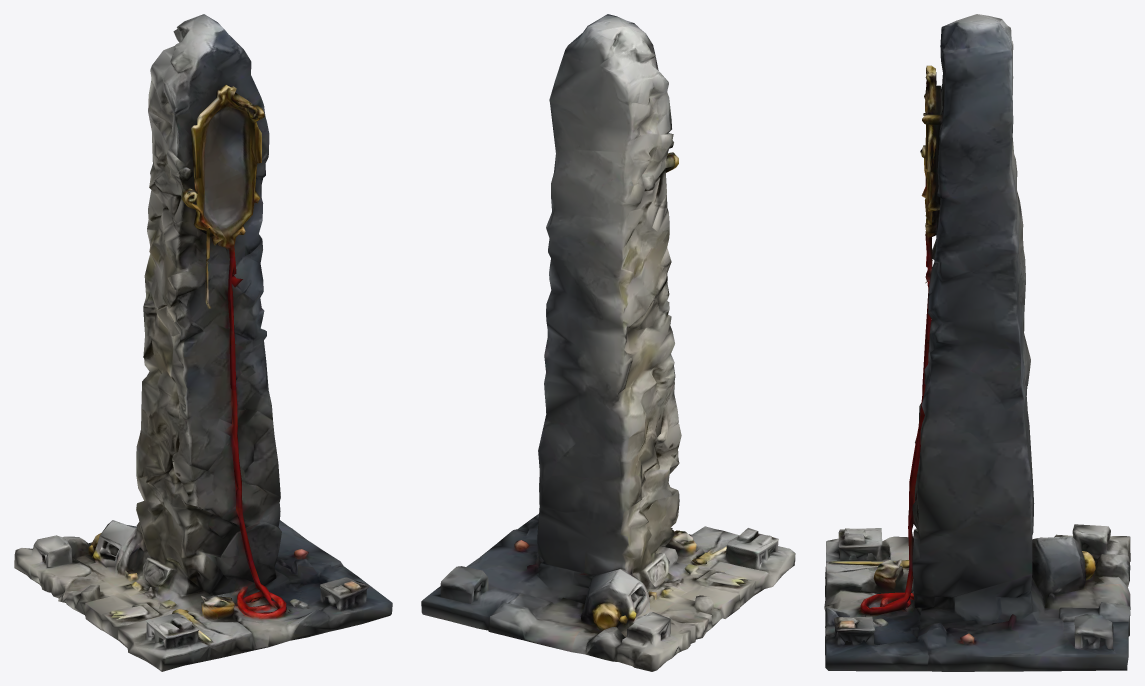
Rendered from anc_stone.glb.
The picture shows the model from 3 angles, left to right: view 1: azimuth 30°, elevation 25°; view 2: azimuth 150°, elevation 25°; view 3: azimuth 270°, elevation 25°; orthographic projection. The views are drawn at different scales.
Visible parts, largest first — view 1: tripo_node_e579e084-bd19-457f-bb8a-d61fdb056948; view 2: tripo_node_e579e084-bd19-457f-bb8a-d61fdb056948; view 3: tripo_node_e579e084-bd19-457f-bb8a-d61fdb056948.
Part boxes in pixels (x1,y1,x2,y2): tripo_node_e579e084-bd19-457f-bb8a-d61fdb056948: (14,14,392,671); tripo_node_e579e084-bd19-457f-bb8a-d61fdb056948: (421,14,795,671); tripo_node_e579e084-bd19-457f-bb8a-d61fdb056948: (824,14,1130,671).
Size of the model in its own units: 0.4292 by 0.9811 by 0.4583.
Materials: 1 (1 with a texture image).
